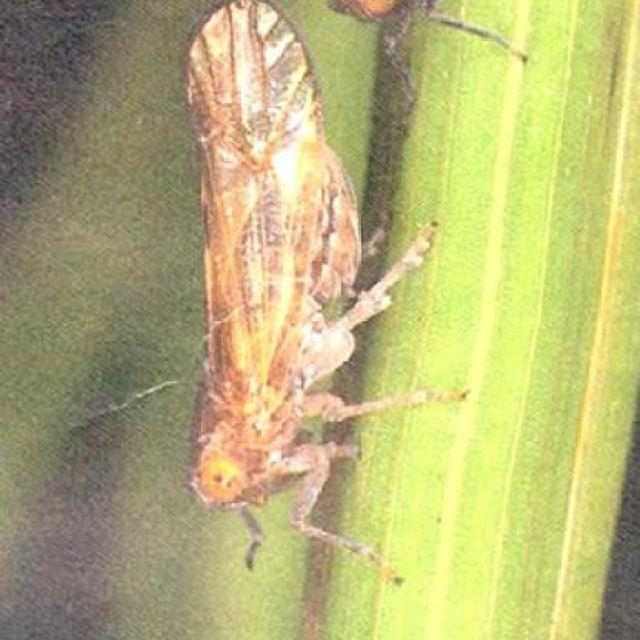brown-planthopper: (182, 0, 365, 515)
